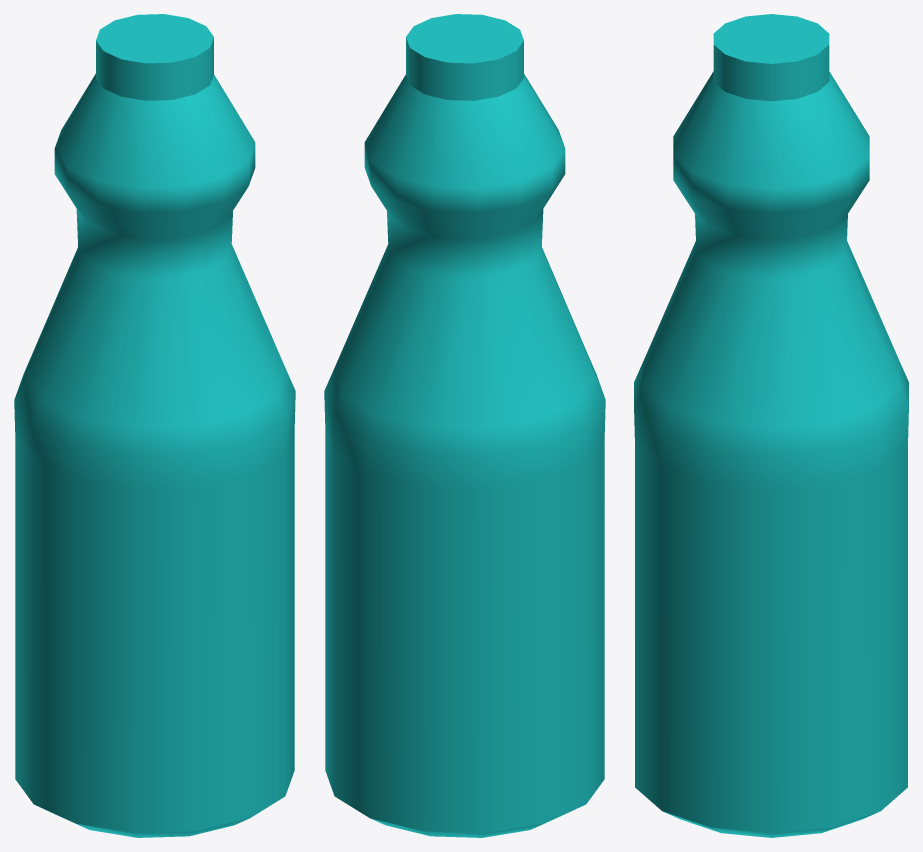
File: lavandina01.fbx
The picture shows the model from 3 angles, left to right: view 1: azimuth 30°, elevation 25°; view 2: azimuth 150°, elevation 25°; view 3: azimuth 270°, elevation 25°; orthographic projection.
Parts seen in each view (by area): view 1: Lavandina02; view 2: Lavandina02; view 3: Lavandina02.
Boxes of the visible parts, x1,y1,x2,y2 form: Lavandina02: (14,14,295,837); Lavandina02: (324,14,605,837); Lavandina02: (634,14,908,837).
Size of the model in its own units: 0.1615 by 0.4738 by 0.1574.
